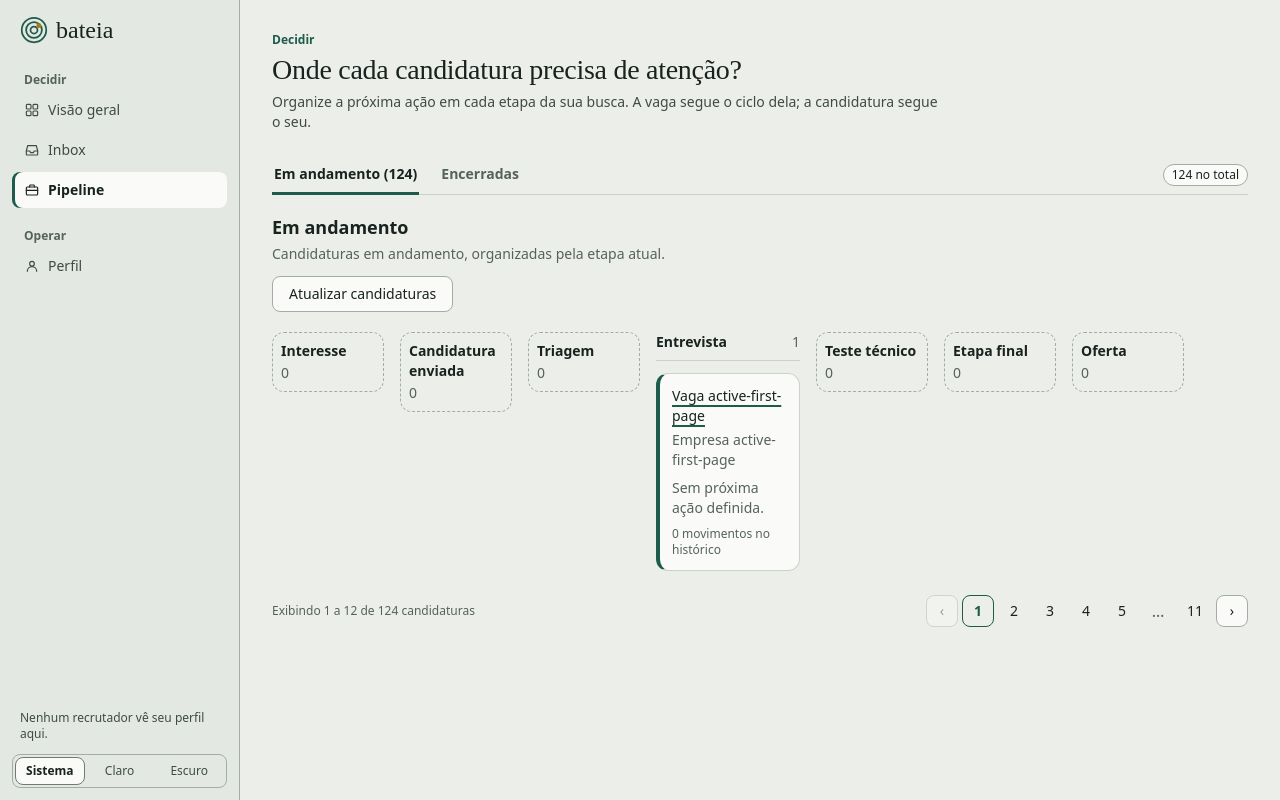
Scenario: PipelinePage › pagina mais de 100 candidaturas usando offset e limit do backend
This screenshot has width=1280, height=800.
(page scrolled)
Click the button "2": click(1014, 611) top-left (998, 595), bottom-right (1030, 627)
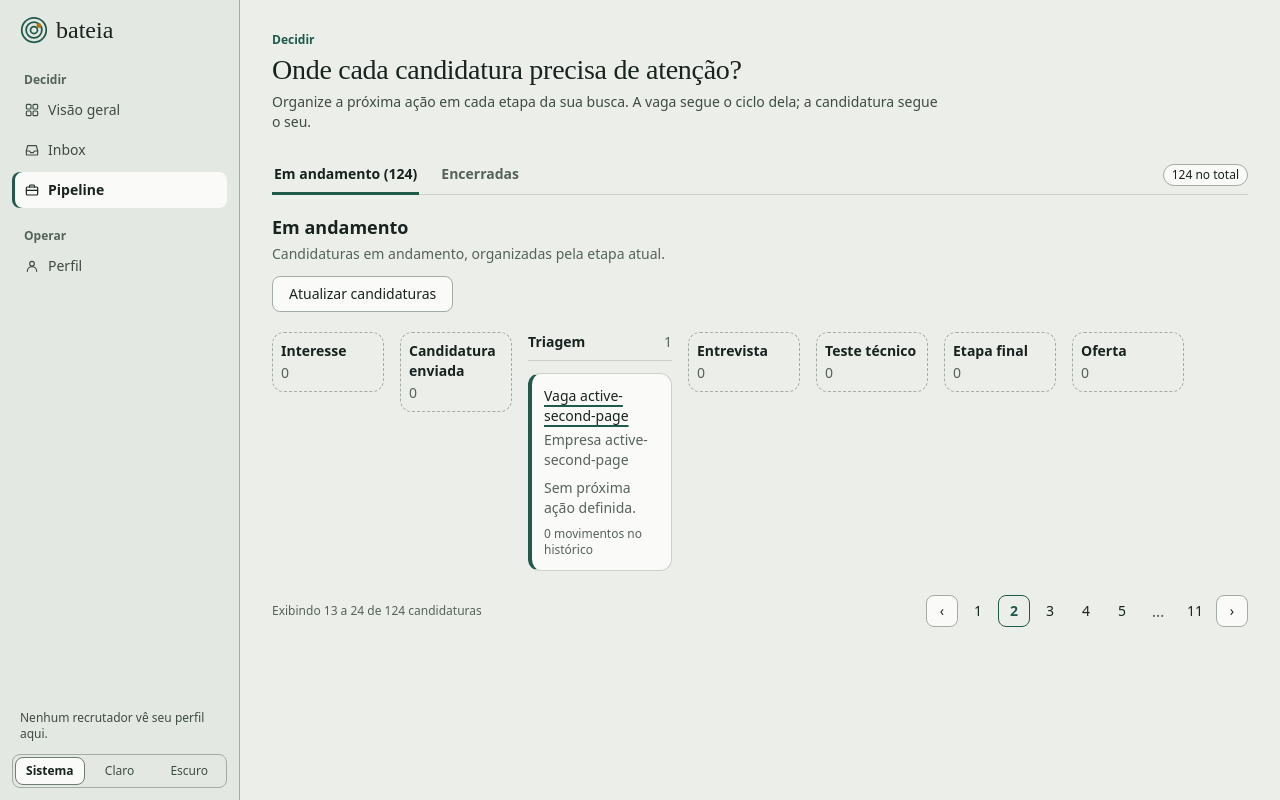
Expected: the text "Triagem" is shown, top-left (528, 332), bottom-right (585, 352)
Now the text "Exibindo 13 a 24 de 124 candidaturas" is shown, box top-left (272, 603), bottom-right (482, 619)
